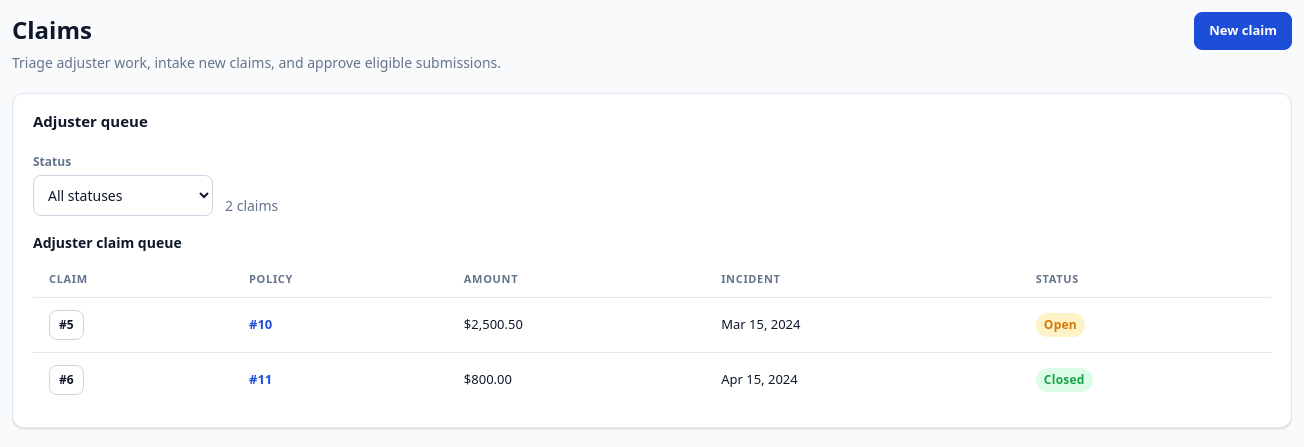
Test: enterprise feature workflows › exposes an accessible claim table and status filter
Expected: the message "Open" is shown, [1036,313,1085,337]
Select "CLOSED" in the dropdown labelled "Status" at (123, 195), box [33,174,213,216]
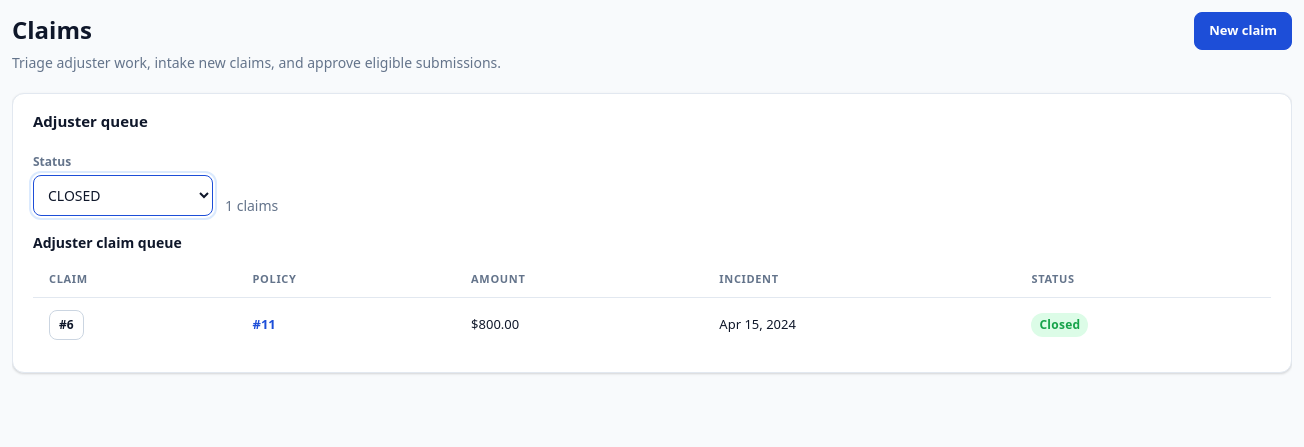
Expected: the message "Closed" is shown, [1032,313,1088,337]
Expected: the message "Open" is gone
